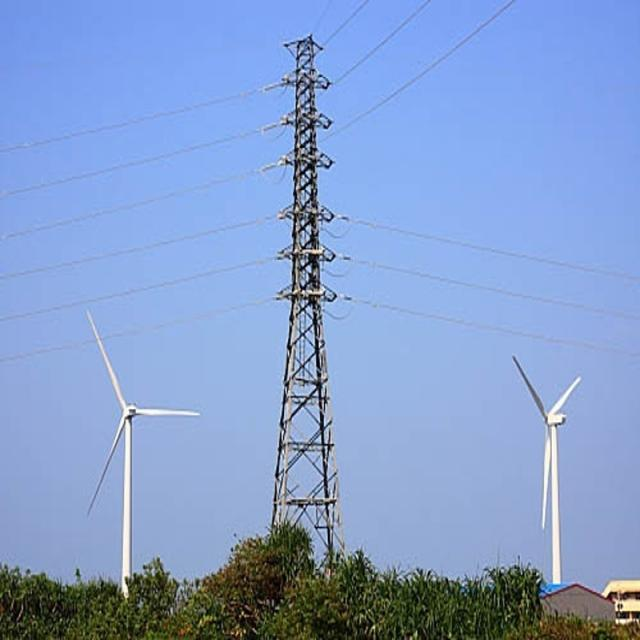non-critical vegetation: (256, 24, 368, 584)
